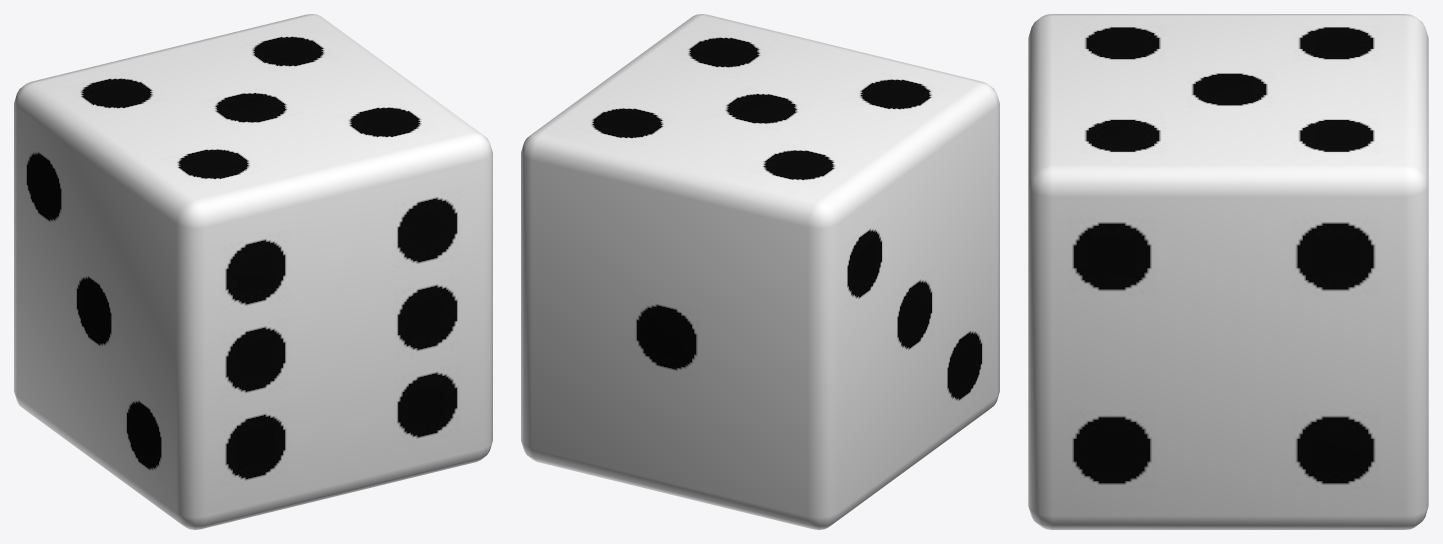
Rendered from Die.FBX.
3 renders of one model, left to right at view 1: azimuth 30°, elevation 25°; view 2: azimuth 150°, elevation 25°; view 3: azimuth 270°, elevation 25°, orthographic. The views are drawn at different scales.
Visible parts, largest first — view 1: ChamferBox001; view 2: ChamferBox001; view 3: ChamferBox001.
Part boxes in pixels (x1,y1,x2,y2): ChamferBox001: (14, 14, 492, 529); ChamferBox001: (521, 14, 999, 529); ChamferBox001: (1028, 14, 1428, 529).
Bounding box in the file's own units: 50 × 50 × 50.
